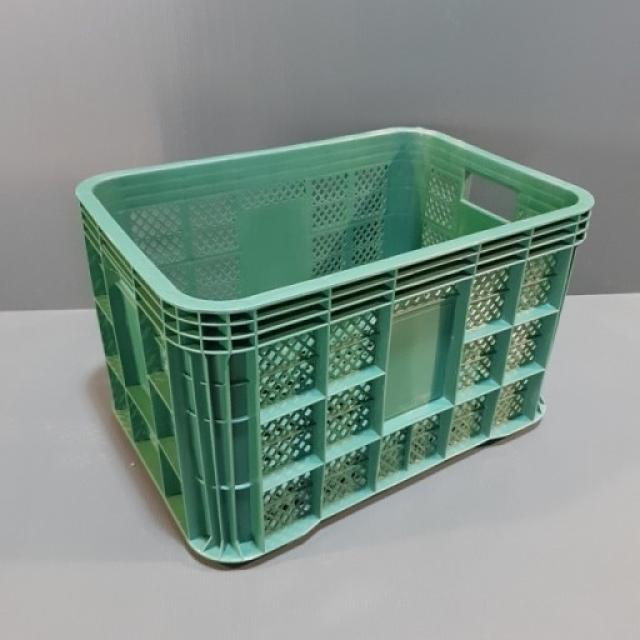basket: (75, 104, 635, 579)
